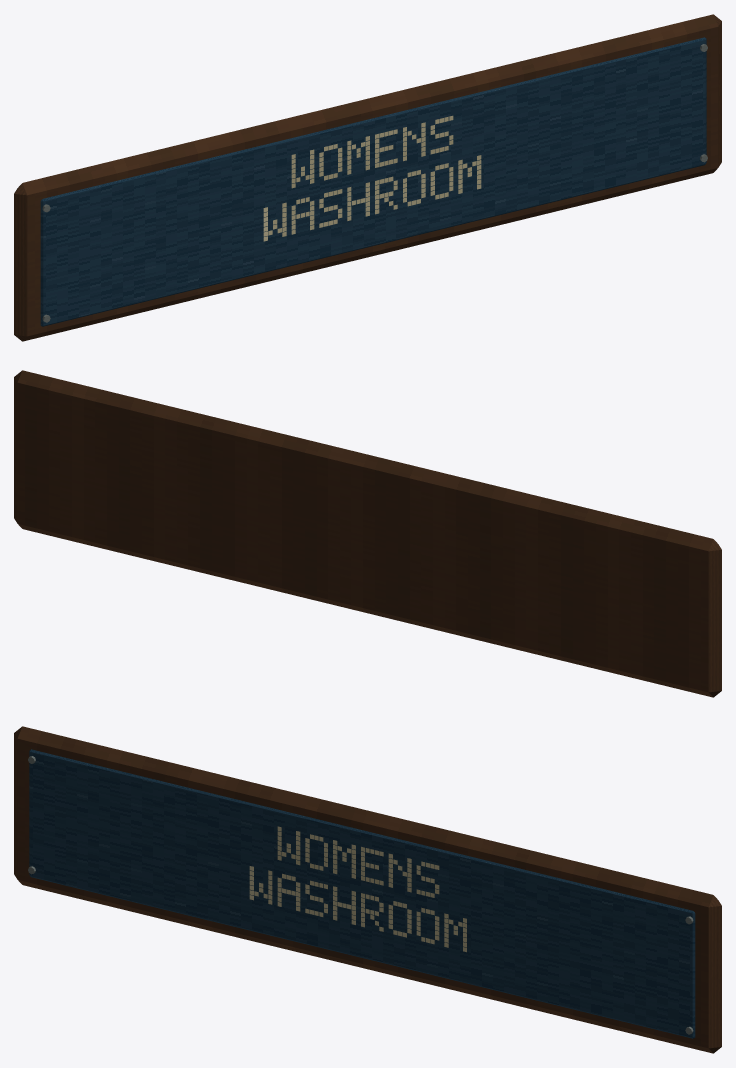
File: level_sign_womens.glb
The picture shows the model from 3 angles, top to bottom: view 1: azimuth 30°, elevation 25°; view 2: azimuth 150°, elevation 25°; view 3: azimuth 330°, elevation 25°; orthographic projection.
Visible parts, largest first — view 1: level_sign_womens; view 2: level_sign_womens; view 3: level_sign_womens.
Boxes of the visible parts, x1,y1,x2,y2 form: level_sign_womens: [14, 14, 721, 341]; level_sign_womens: [14, 370, 721, 697]; level_sign_womens: [14, 726, 721, 1053].
Size of the model in its own units: 1.68 by 0.36 by 0.053.
Materials: 4 (4 with a texture image).
